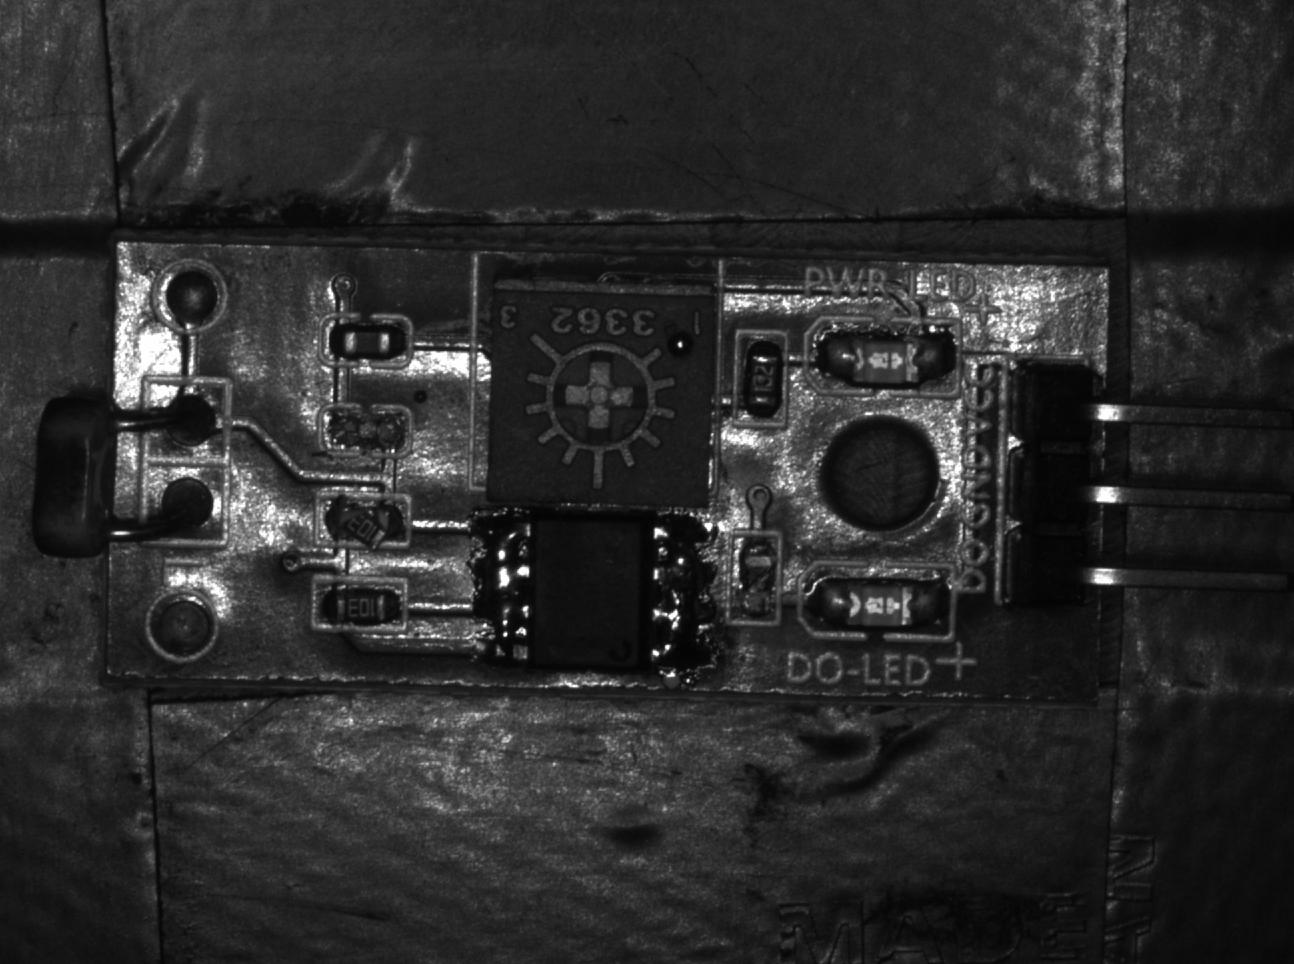bridge: (651, 514, 714, 669), (470, 515, 532, 663)
lifted: (318, 491, 411, 548)
miss: (319, 405, 411, 458)
ok: (314, 577, 412, 630), (319, 314, 414, 368), (737, 331, 787, 425), (733, 529, 779, 623)
